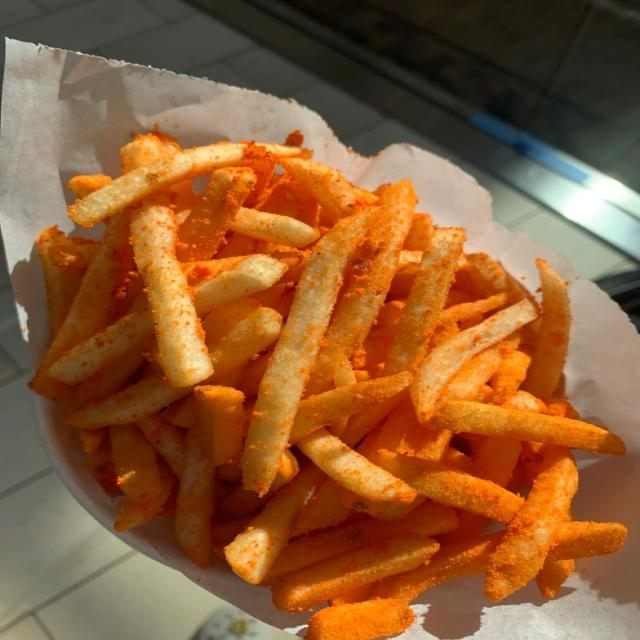potato fries: (33, 132, 626, 639), (243, 209, 373, 494), (132, 199, 213, 386), (68, 143, 246, 226), (273, 535, 439, 611), (524, 260, 571, 398), (306, 599, 414, 639)
